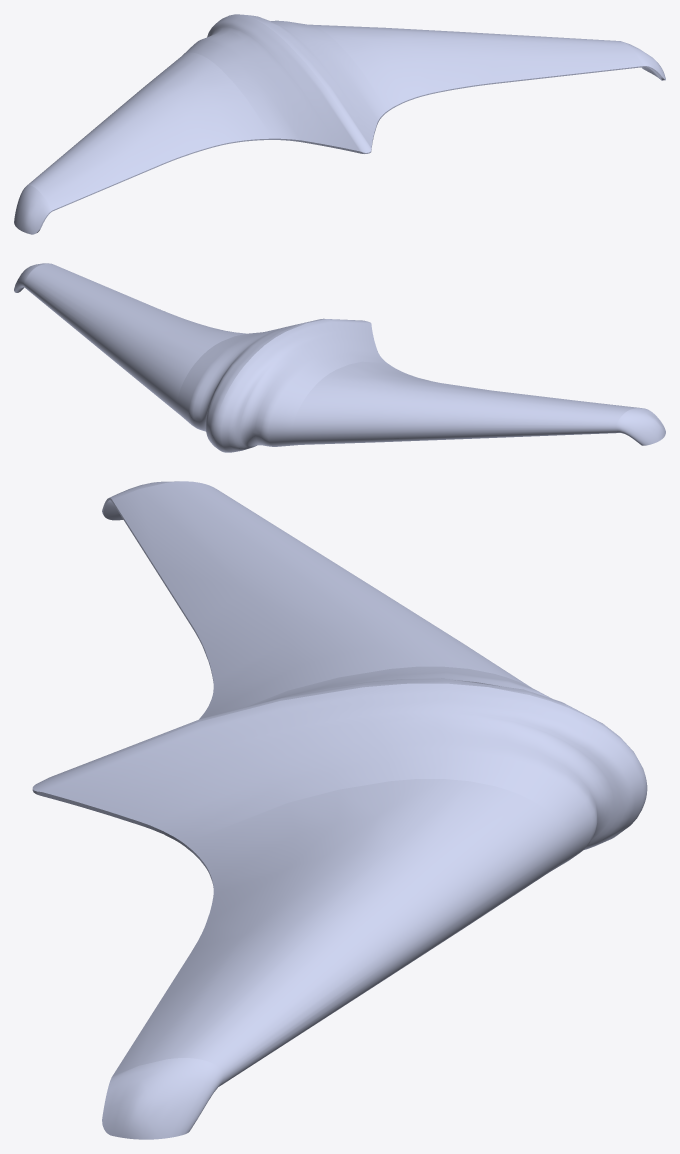
3 views of the same model, one above another, from view 1: azimuth 30°, elevation 25°; view 2: azimuth 150°, elevation 25°; view 3: azimuth 270°, elevation 25° (orthographic). The views are drawn at different scales.
Parts seen in each view (by area): view 1: horten ul; view 2: horten ul; view 3: horten ul.
Part boxes in pixels (x1,y1,x2,y2): horten ul: [14, 14, 665, 234]; horten ul: [14, 263, 665, 452]; horten ul: [32, 481, 647, 1139].
Size of the model in its own units: 1420 by 181 by 588.
